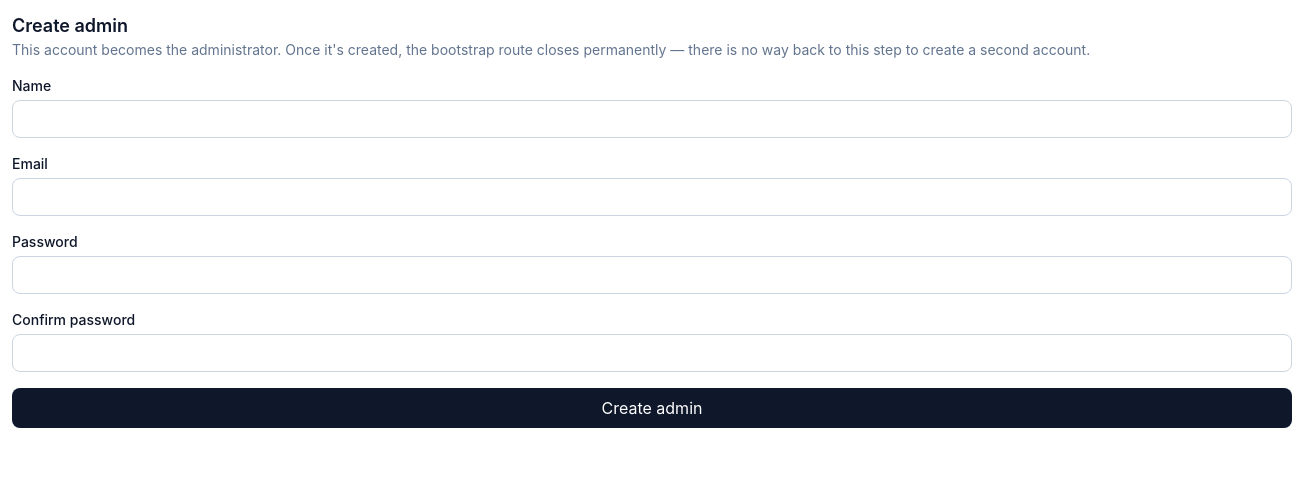
Test: StepCreateAdmin › renders the server's error slug as a sentence
The width and height of the screenshot is (1304, 481).
Type "Ada" into the field labelled "Name".
click(652, 119); type("Ada")  # box left=12, top=100, right=1292, bottom=138
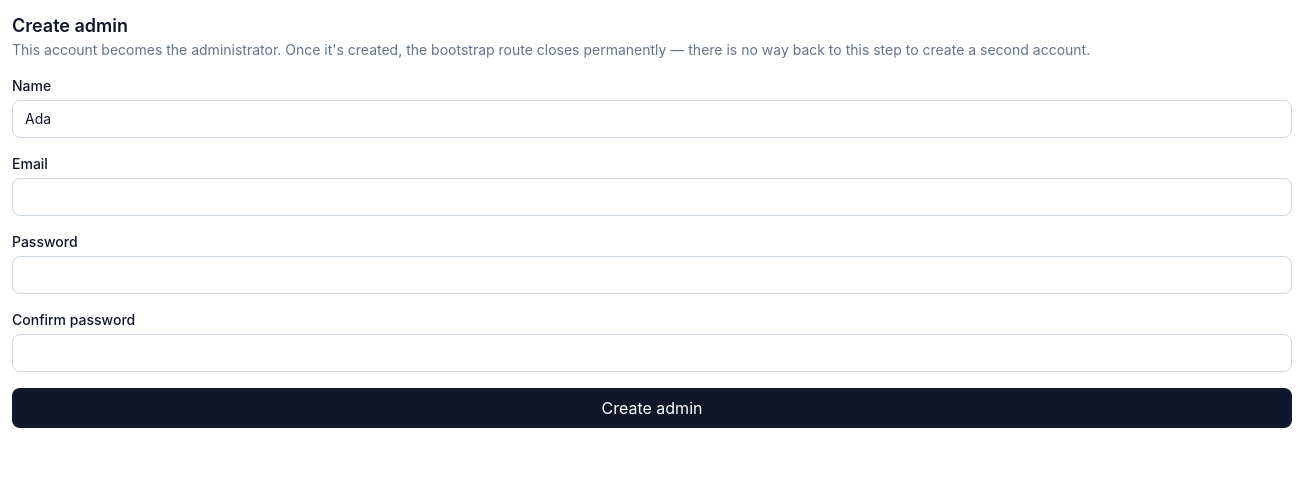
Type "ada@example.com" into the field labelled "Email".
click(652, 197); type("ada@example.com")  # box left=12, top=178, right=1292, bottom=216
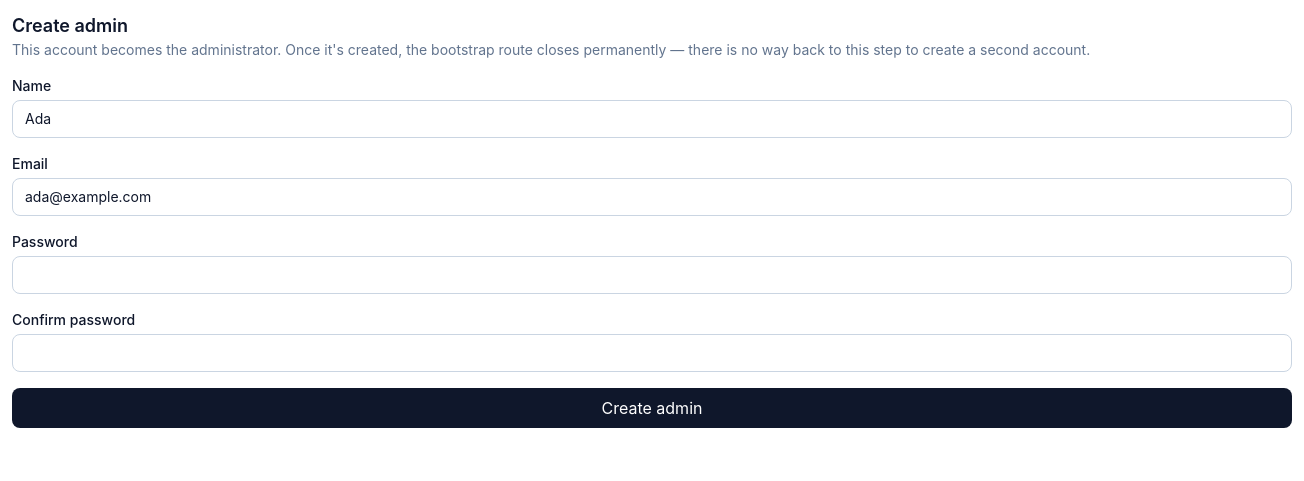
Type "correct-horse-battery" into the password field labelled "Password".
click(652, 275); type("correct-horse-battery")  # box left=12, top=256, right=1292, bottom=294
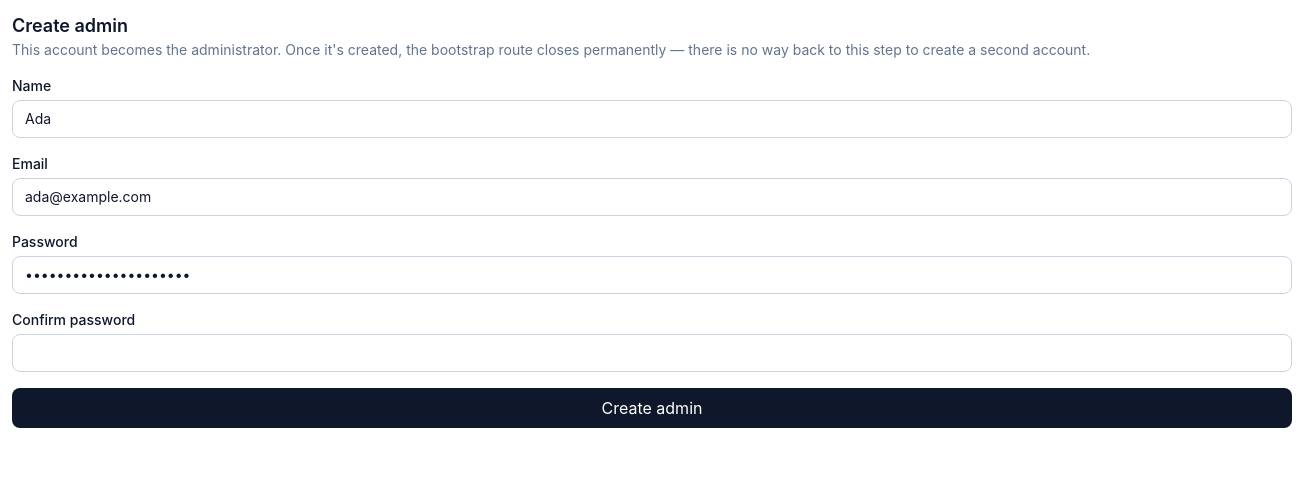
Type "correct-horse-battery" into the password field labelled "Confirm password".
click(652, 353); type("correct-horse-battery")  # box left=12, top=334, right=1292, bottom=372
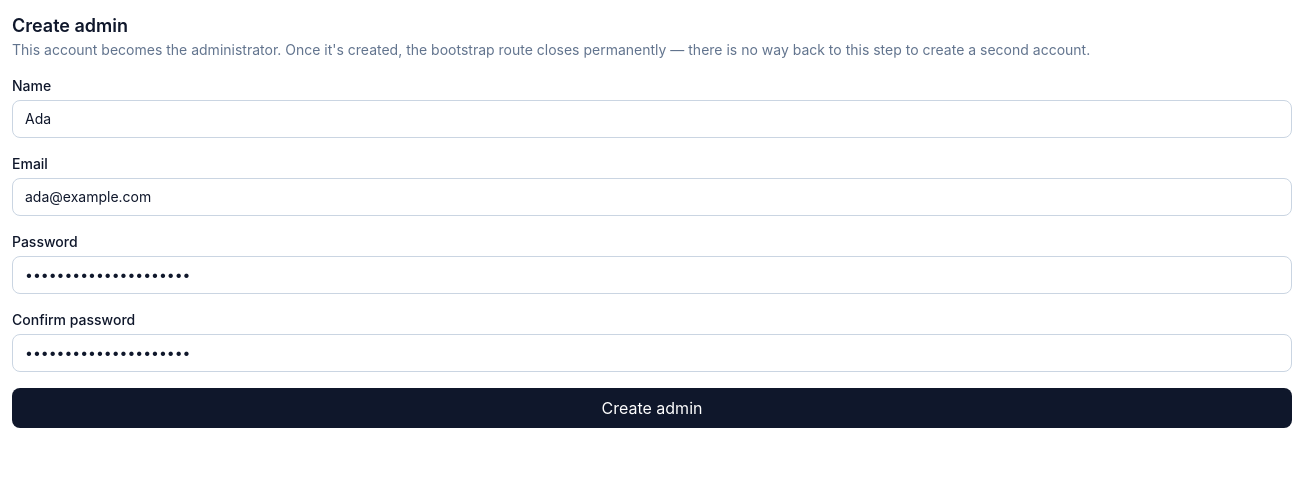
Click the button "Create admin".
click(652, 408)  # box left=12, top=388, right=1292, bottom=428
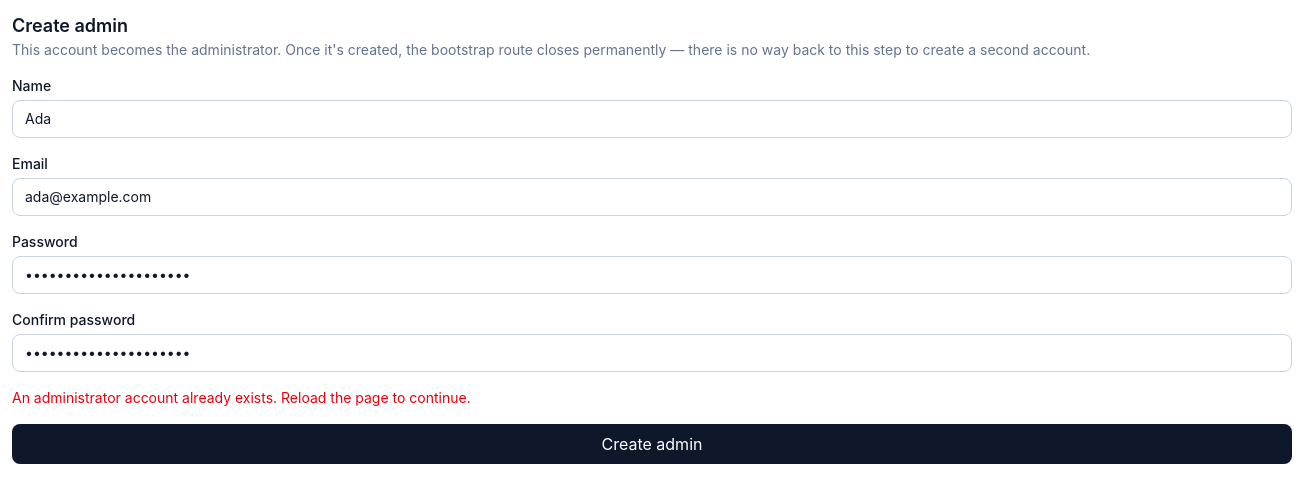
Check: the text "An administrator account already exists. Reload the page to continue." is shown, box left=12, top=389, right=471, bottom=406
